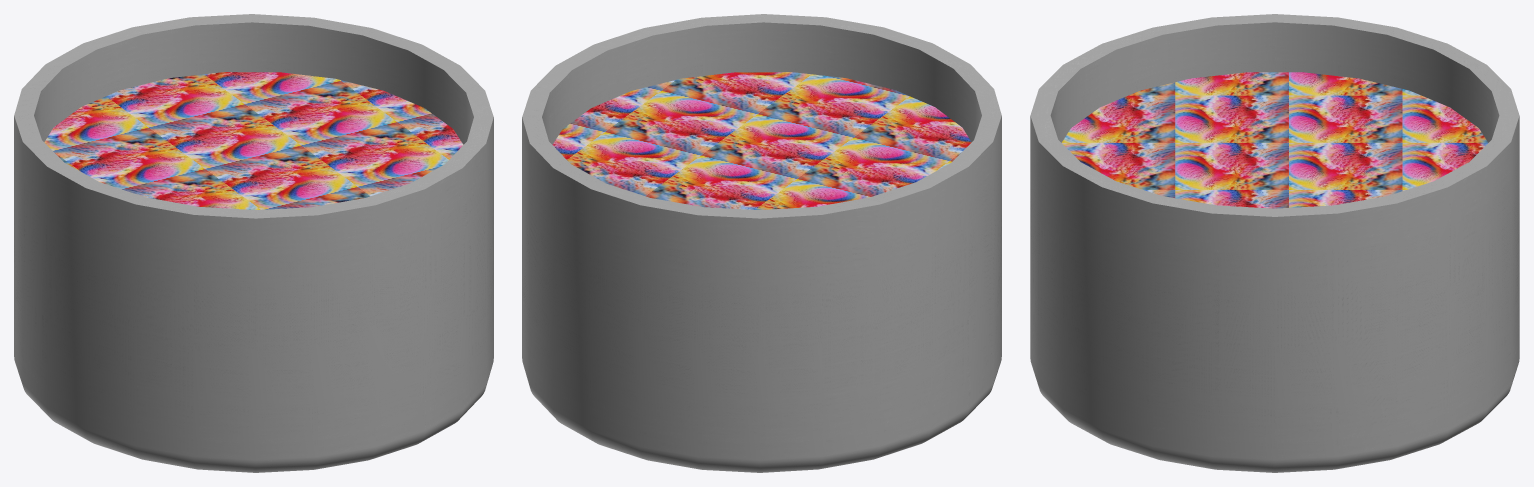
File: c-ice.dae
3 views of the same model, side by side, from view 1: azimuth 30°, elevation 25°; view 2: azimuth 150°, elevation 25°; view 3: azimuth 270°, elevation 25° (orthographic).
Visible parts, largest first — view 1: SketchUp, SketchUp_002; view 2: SketchUp, SketchUp_002; view 3: SketchUp, SketchUp_002.
Boxes of the visible parts, left/top/right/bottom form: SketchUp: left=14, top=14, right=493, bottom=472; SketchUp_002: left=44, top=72, right=463, bottom=209; SketchUp: left=522, top=14, right=1001, bottom=472; SketchUp_002: left=552, top=72, right=971, bottom=209; SketchUp: left=1030, top=14, right=1519, bottom=472; SketchUp_002: left=1061, top=72, right=1488, bottom=208.
Bounding box in the file's own units: 0.4601 × 0.4686 × 0.2808.
2 materials, 2 textured.
